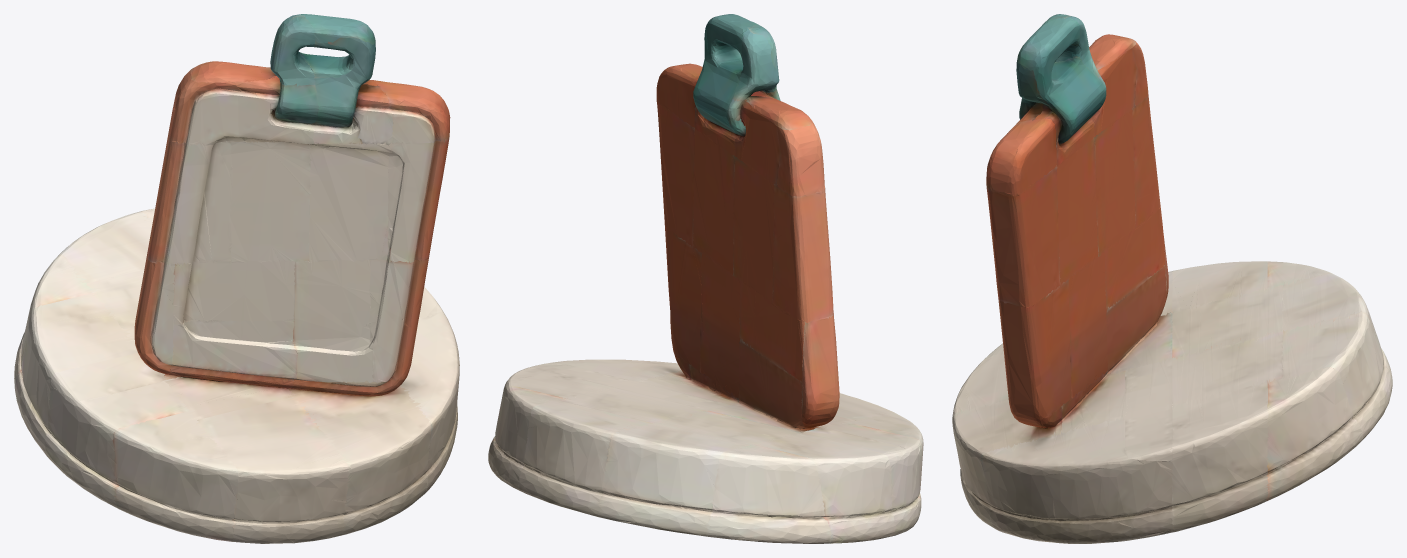
Rendered from id-card-studio.glb.
The picture shows the model from 3 angles, left to right: view 1: azimuth 30°, elevation 25°; view 2: azimuth 150°, elevation 25°; view 3: azimuth 270°, elevation 25°; orthographic projection. The views are drawn at different scales.
Parts seen in each view (by area): view 1: tmpqw1gfq5o.obj; view 2: tmpqw1gfq5o.obj; view 3: tmpqw1gfq5o.obj.
Part boxes in pixels (x1,y1,x2,y2): tmpqw1gfq5o.obj: (14, 14, 459, 543); tmpqw1gfq5o.obj: (488, 14, 923, 543); tmpqw1gfq5o.obj: (952, 14, 1392, 543).
Size of the model in its own units: 1.29 by 1.54 by 1.29.
1 material, 1 textured.
